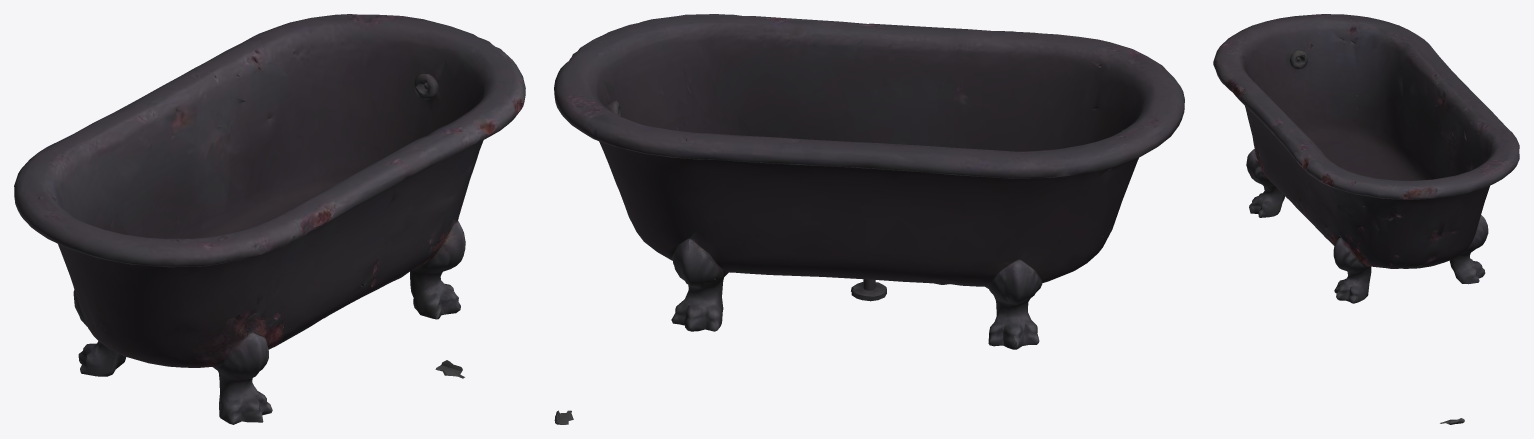
The model's file is bathtub_chugunnaya_idle.glb.
3 renders of one model, left to right at view 1: azimuth 30°, elevation 25°; view 2: azimuth 150°, elevation 25°; view 3: azimuth 270°, elevation 25°, orthographic. The views are drawn at different scales.
Visible parts, largest first — view 1: tripo_node_fe09dc2b-846a-49c9-805f-ff7d5740b4ec; view 2: tripo_node_fe09dc2b-846a-49c9-805f-ff7d5740b4ec; view 3: tripo_node_fe09dc2b-846a-49c9-805f-ff7d5740b4ec.
Part boxes in pixels (<box>): tripo_node_fe09dc2b-846a-49c9-805f-ff7d5740b4ec: <box>14,14,525,424</box>; tripo_node_fe09dc2b-846a-49c9-805f-ff7d5740b4ec: <box>554,14,1184,424</box>; tripo_node_fe09dc2b-846a-49c9-805f-ff7d5740b4ec: <box>1213,14,1519,424</box>.
Bounding box in the file's own units: 1.7 × 1.07 × 1.23.
1 material, 1 textured.
